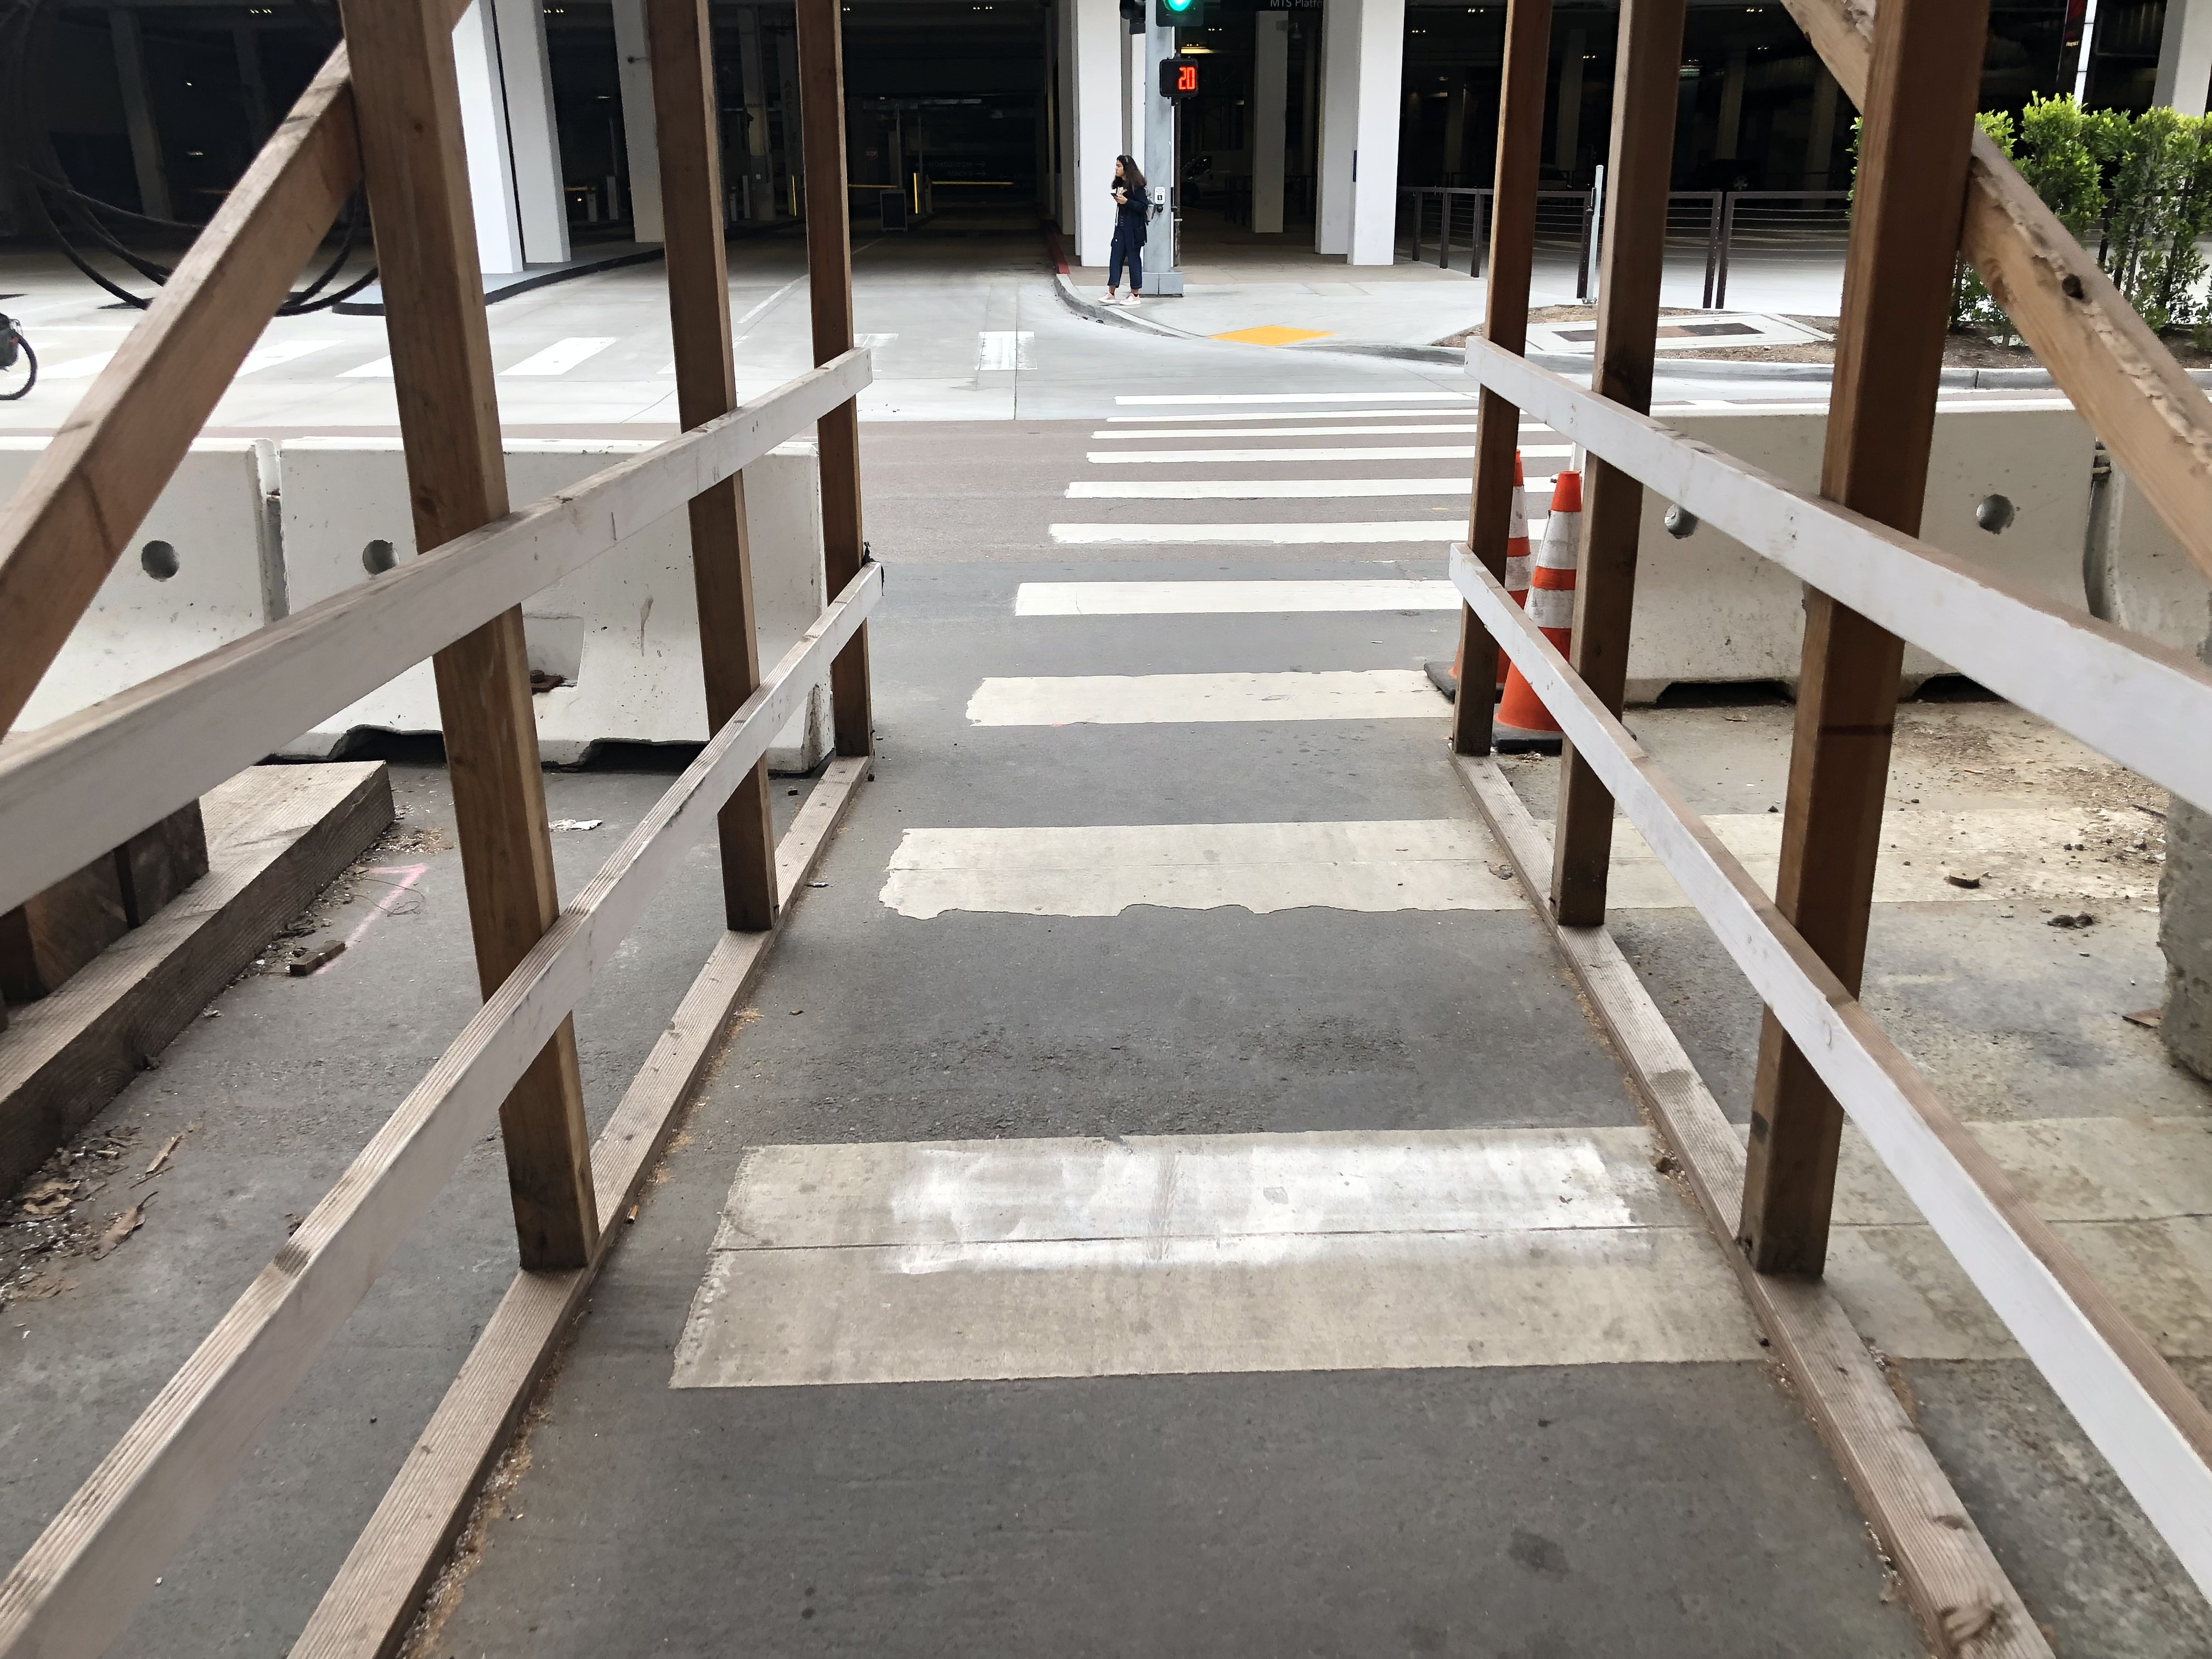Obstacle: (2, 7, 871, 1654), (1453, 5, 2207, 1647), (1085, 12, 1193, 328)
